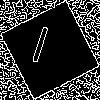I: (25, 25, 53, 73)
